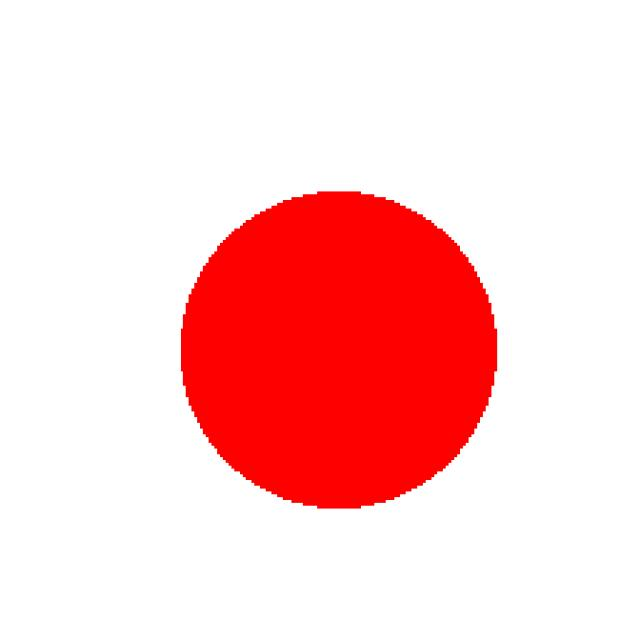Circle: (148, 170, 513, 527)
